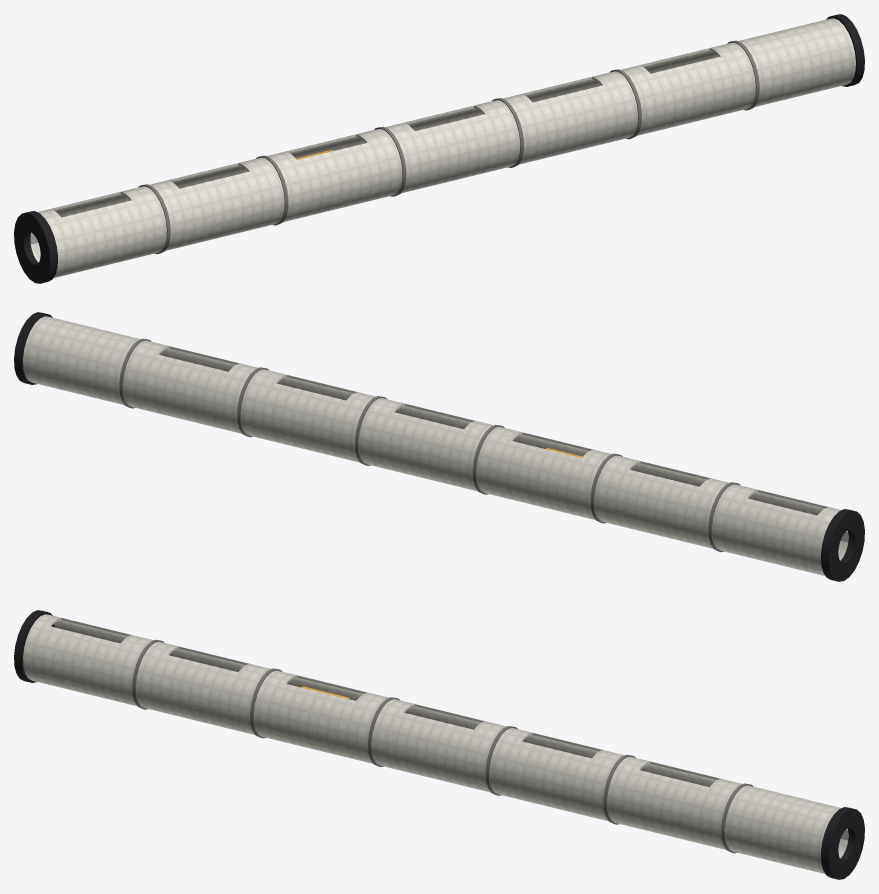
The model's file is station10_spoke.glb.
3 renders of one model, top to bottom at view 1: azimuth 30°, elevation 25°; view 2: azimuth 150°, elevation 25°; view 3: azimuth 330°, elevation 25°, orthographic.
Visible parts, largest first — view 1: tube_shell, end_collars, ring_frames; view 2: tube_shell, end_collars, ring_frames; view 3: tube_shell, end_collars, ring_frames.
Boxes of the visible parts, box(x1,y1,x2,y2) form: tube_shell: box(31, 18, 855, 278); end_collars: box(14, 14, 864, 283); ring_frames: box(138, 40, 759, 254); tube_shell: box(23, 316, 847, 576); end_collars: box(14, 312, 864, 581); ring_frames: box(119, 338, 740, 552); tube_shell: box(23, 614, 847, 874); end_collars: box(14, 610, 864, 879); ring_frames: box(132, 639, 753, 853).
Bounding box in the file's own units: 20.75 × 1.6 × 1.6.
Materials: 5 (4 with a texture image).
